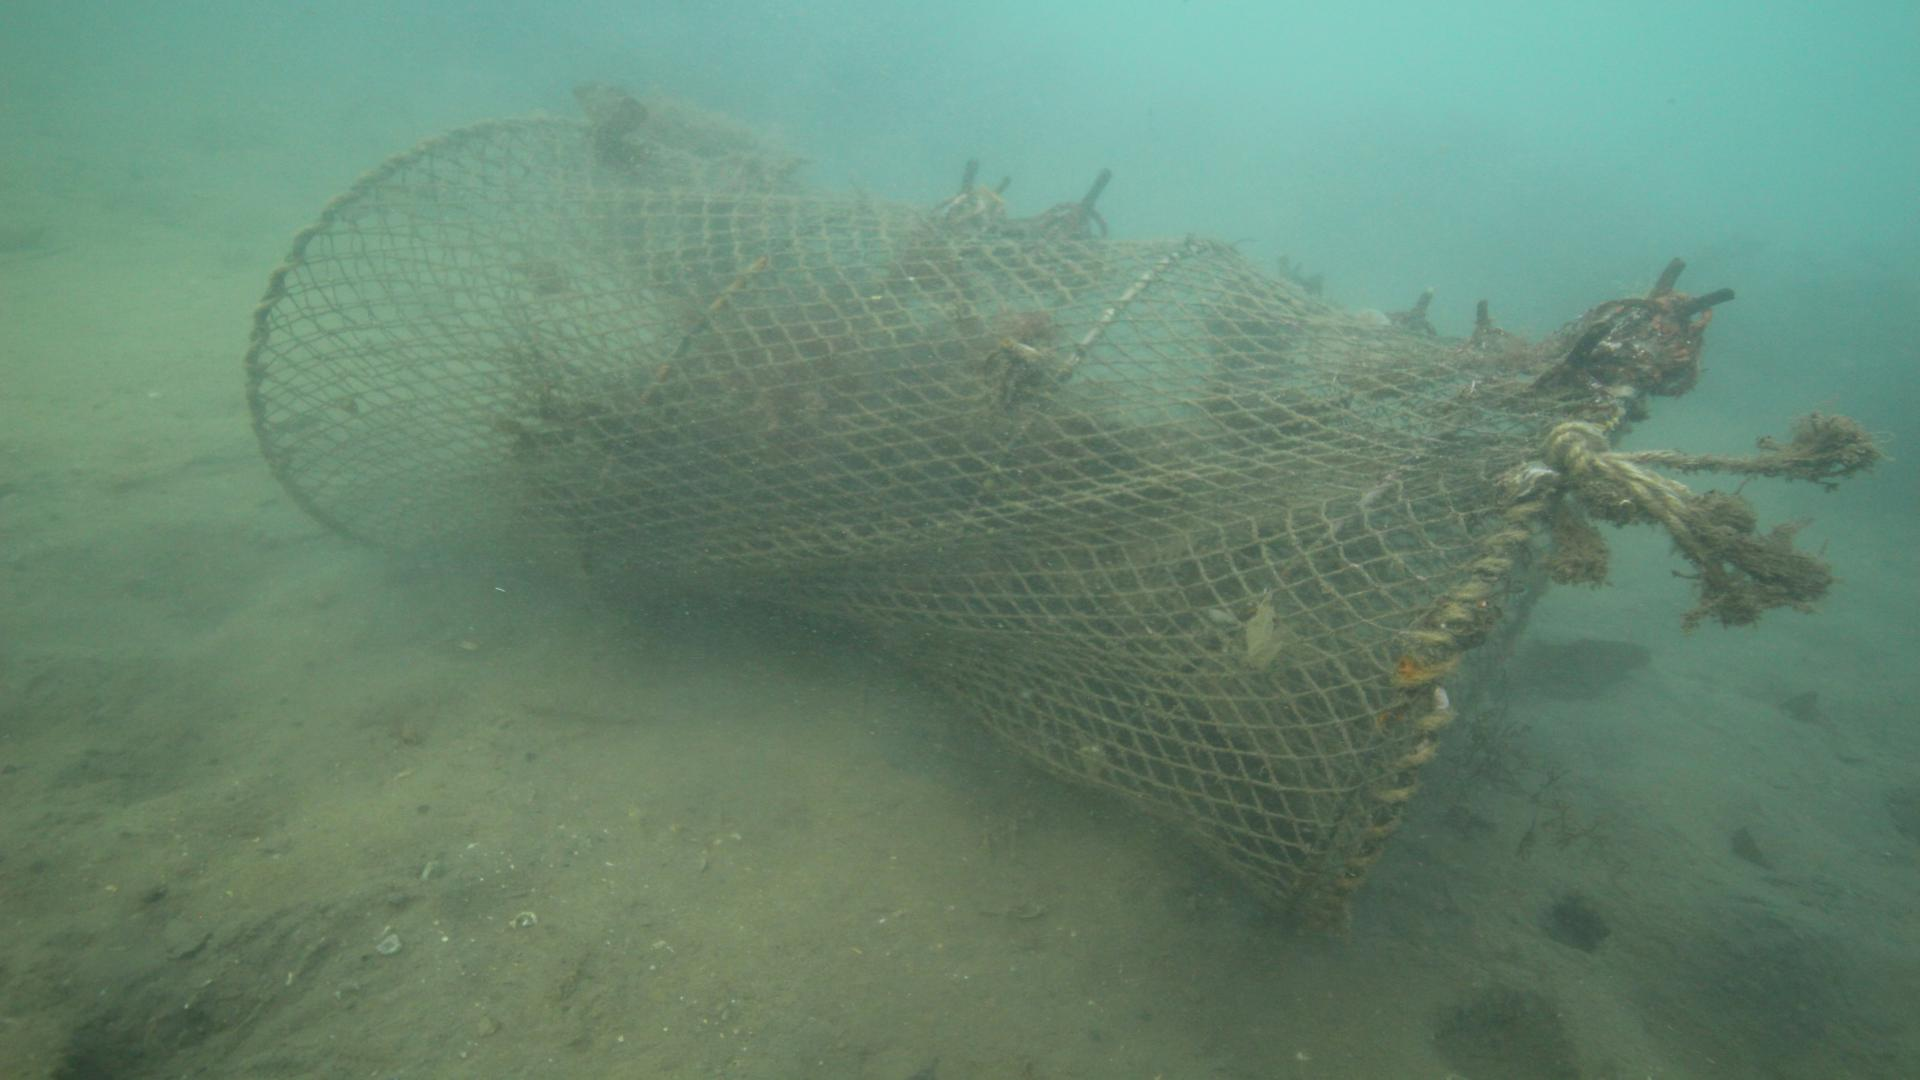spring fish trap: (241, 108, 1665, 942)
